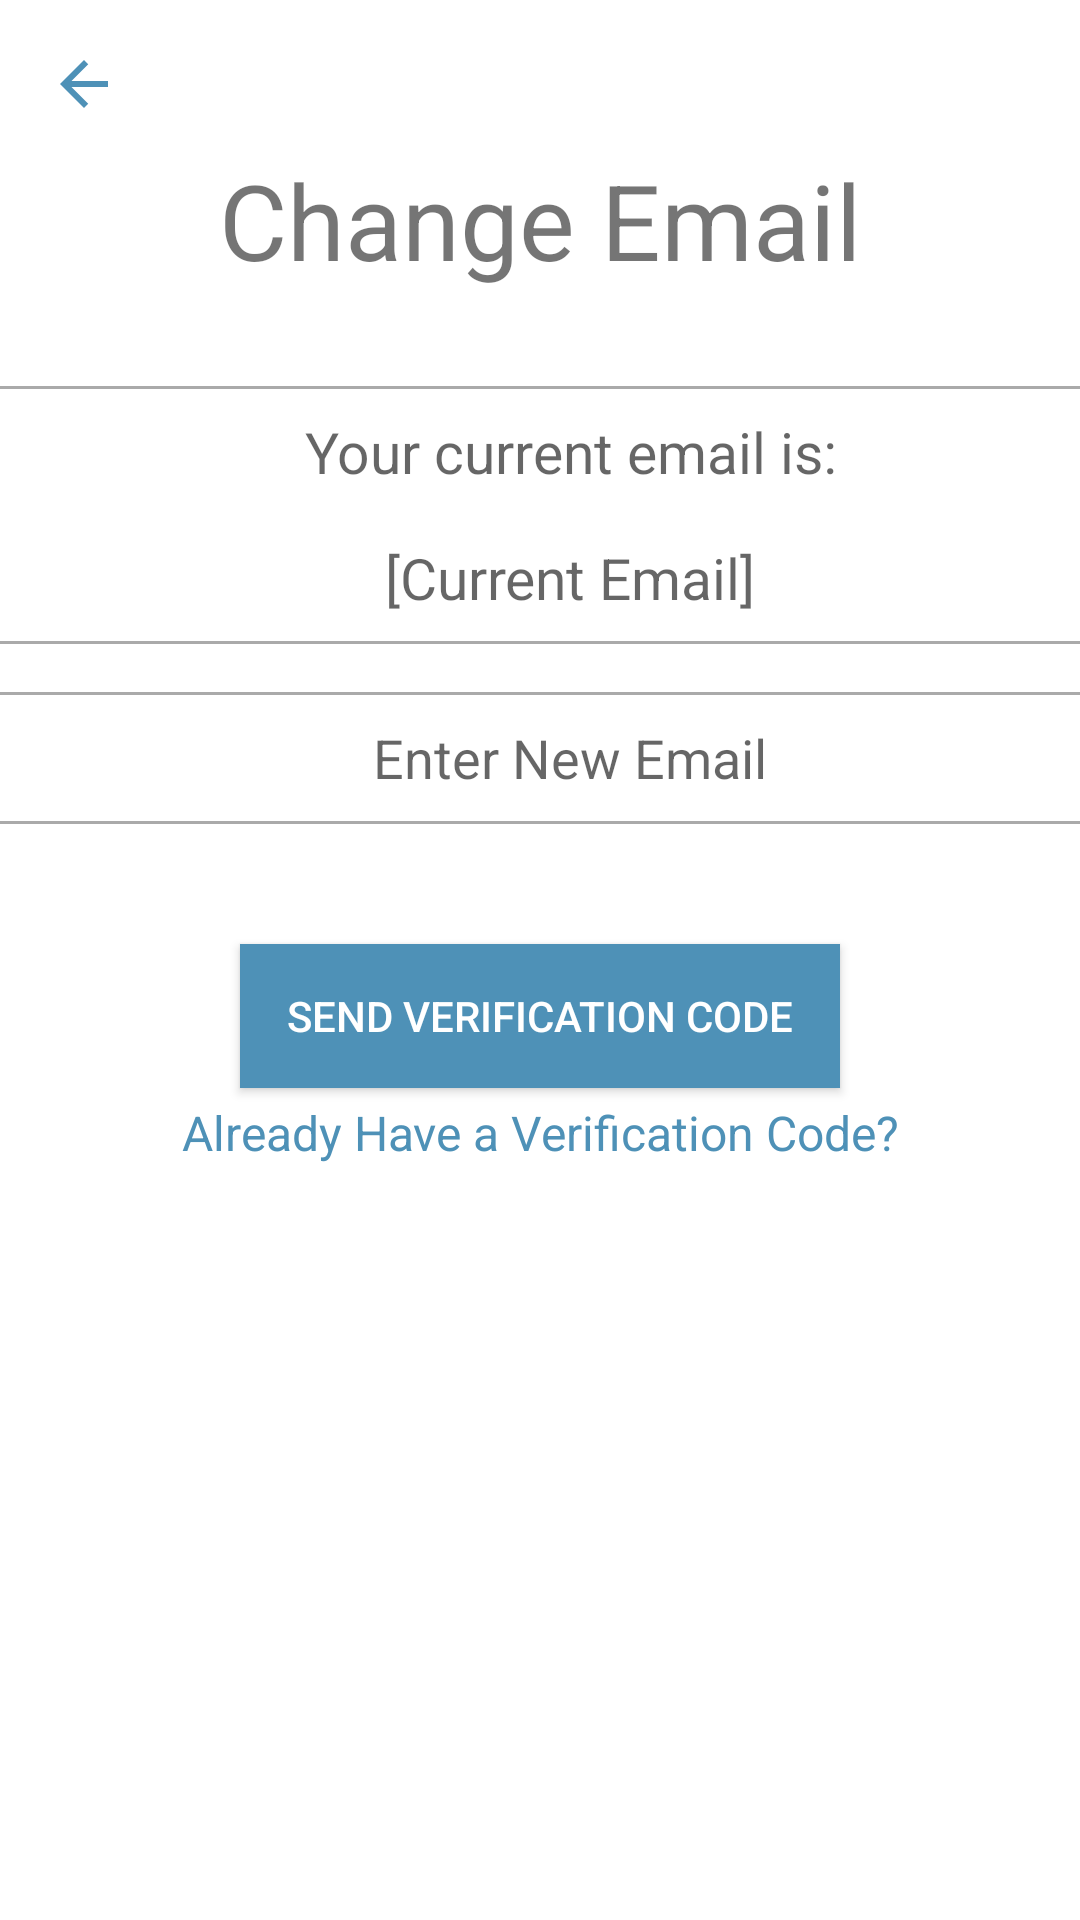

Icon bounding boxes for this 1080 × 1920 phone screenshot, format box(x1, y1, x2, y2):
Return to previous page: box(60, 60, 108, 108)
